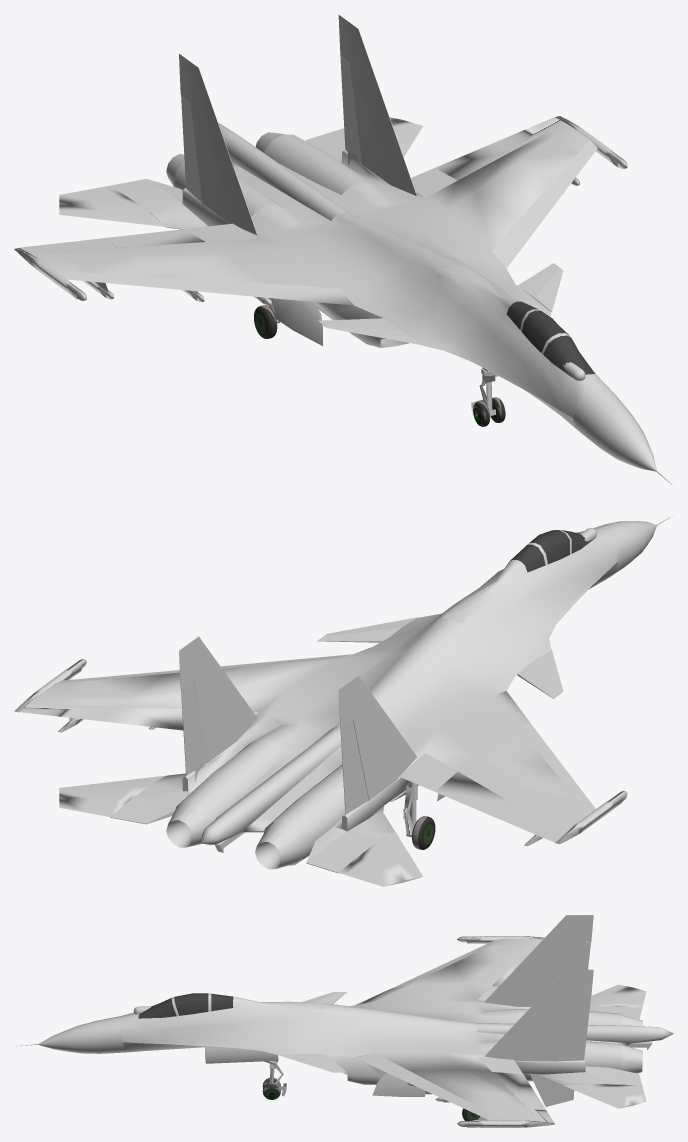
3 views of the same model, one above another, from view 1: azimuth 30°, elevation 25°; view 2: azimuth 150°, elevation 25°; view 3: azimuth 270°, elevation 25° (orthographic). The views are drawn at different scales.
Visible parts, largest first — view 1: 歼15战斗机; view 2: 歼15战斗机; view 3: 歼15战斗机.
Boxes of the visible parts, x1=… form: 歼15战斗机: x1=14, y1=14, x2=672, y2=485; 歼15战斗机: x1=14, y1=515, x2=673, y2=886; 歼15战斗机: x1=15, y1=915, x2=673, y2=1127.
Size of the model in its own units: 14.7 by 5.7 by 22.04.
Materials: 3 (1 with a texture image).
